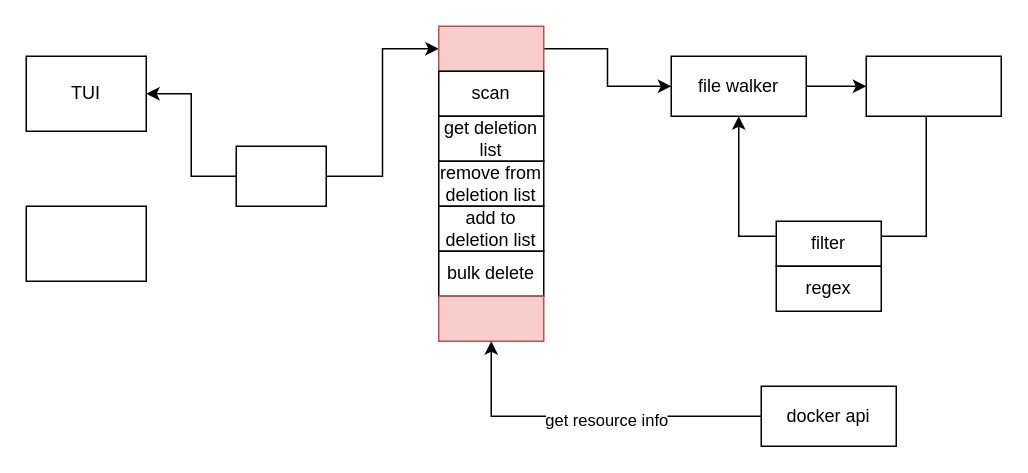
This 1028x473 diagram has some shape labels left out. The shapes that lost their labels are listed below. From the top down, each one's centre as x and y in pixels, then its label:
pixel 490 48: core
pixel 933 85: file system
pixel 280 175: api
pixel 85 243: Desktop app via wails
pixel 490 318: puller
